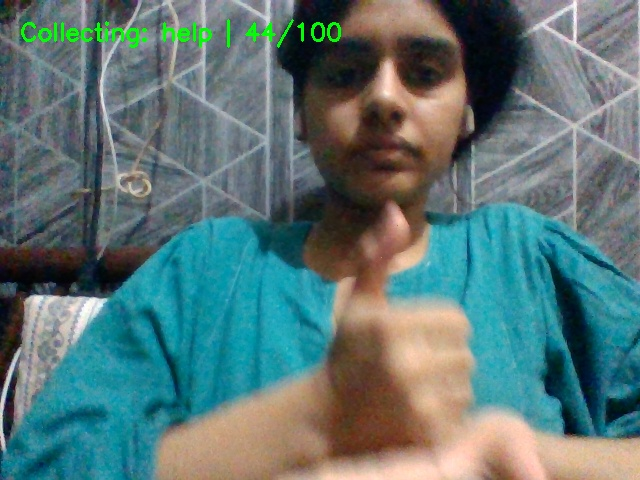help: (258, 187, 574, 480), (258, 191, 567, 480)
